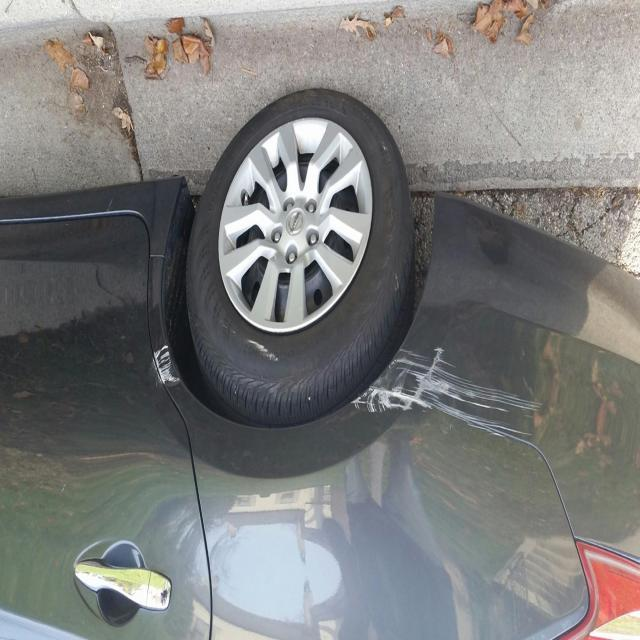scratch: (350, 335, 566, 459), (146, 332, 180, 401)
